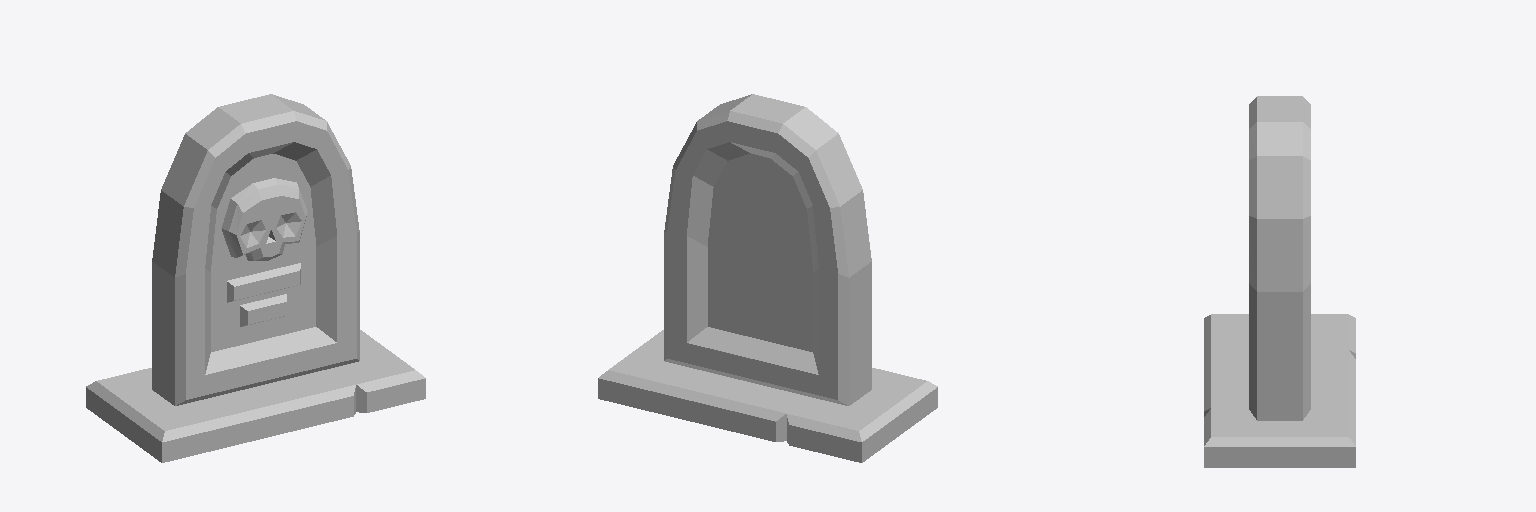
Rendered from grave_A.obj.
The picture shows the model from 3 angles: view 1: azimuth 30°, elevation 25°; view 2: azimuth 150°, elevation 25°; view 3: azimuth 270°, elevation 25°; orthographic projection.
Visible parts, largest first — view 1: grave_A_Cube.103; view 2: grave_A_Cube.103; view 3: grave_A_Cube.103.
Part boxes in pixels (bbox=[...]): grave_A_Cube.103: bbox=[86, 94, 425, 462]; grave_A_Cube.103: bbox=[598, 94, 937, 462]; grave_A_Cube.103: bbox=[1204, 96, 1355, 467].
Bounding box in the file's own units: 2 × 2.13 × 1.